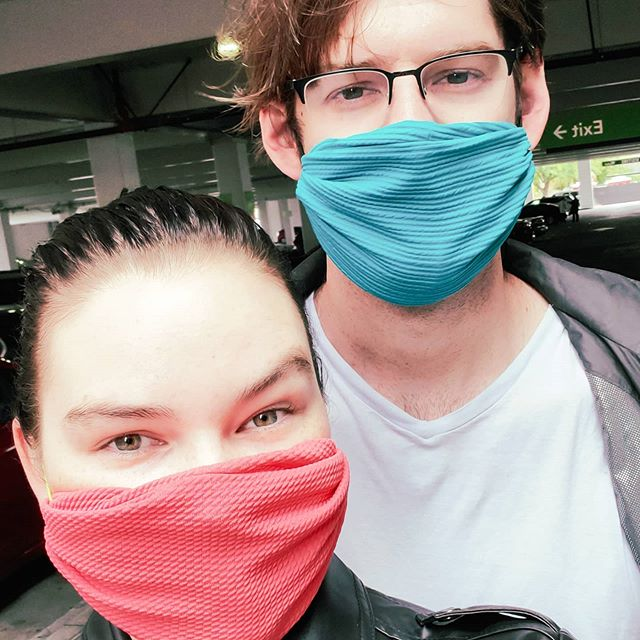homemade: (25, 460, 343, 638), (286, 113, 574, 308)
